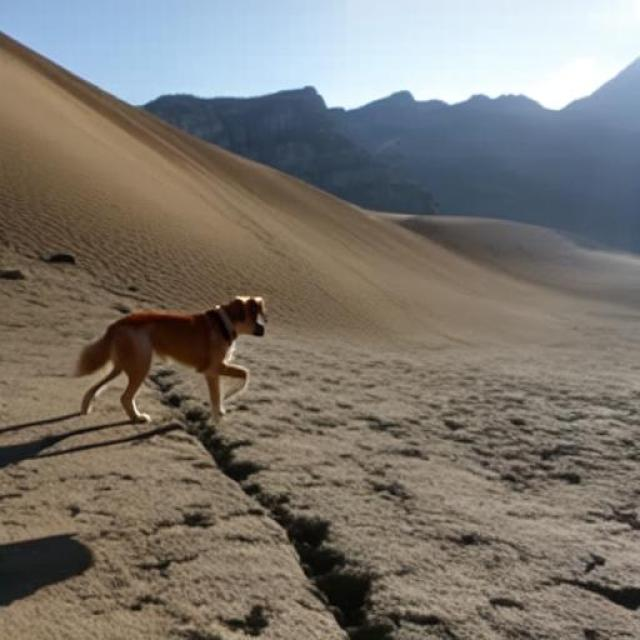Dog: (75, 294, 268, 425)
